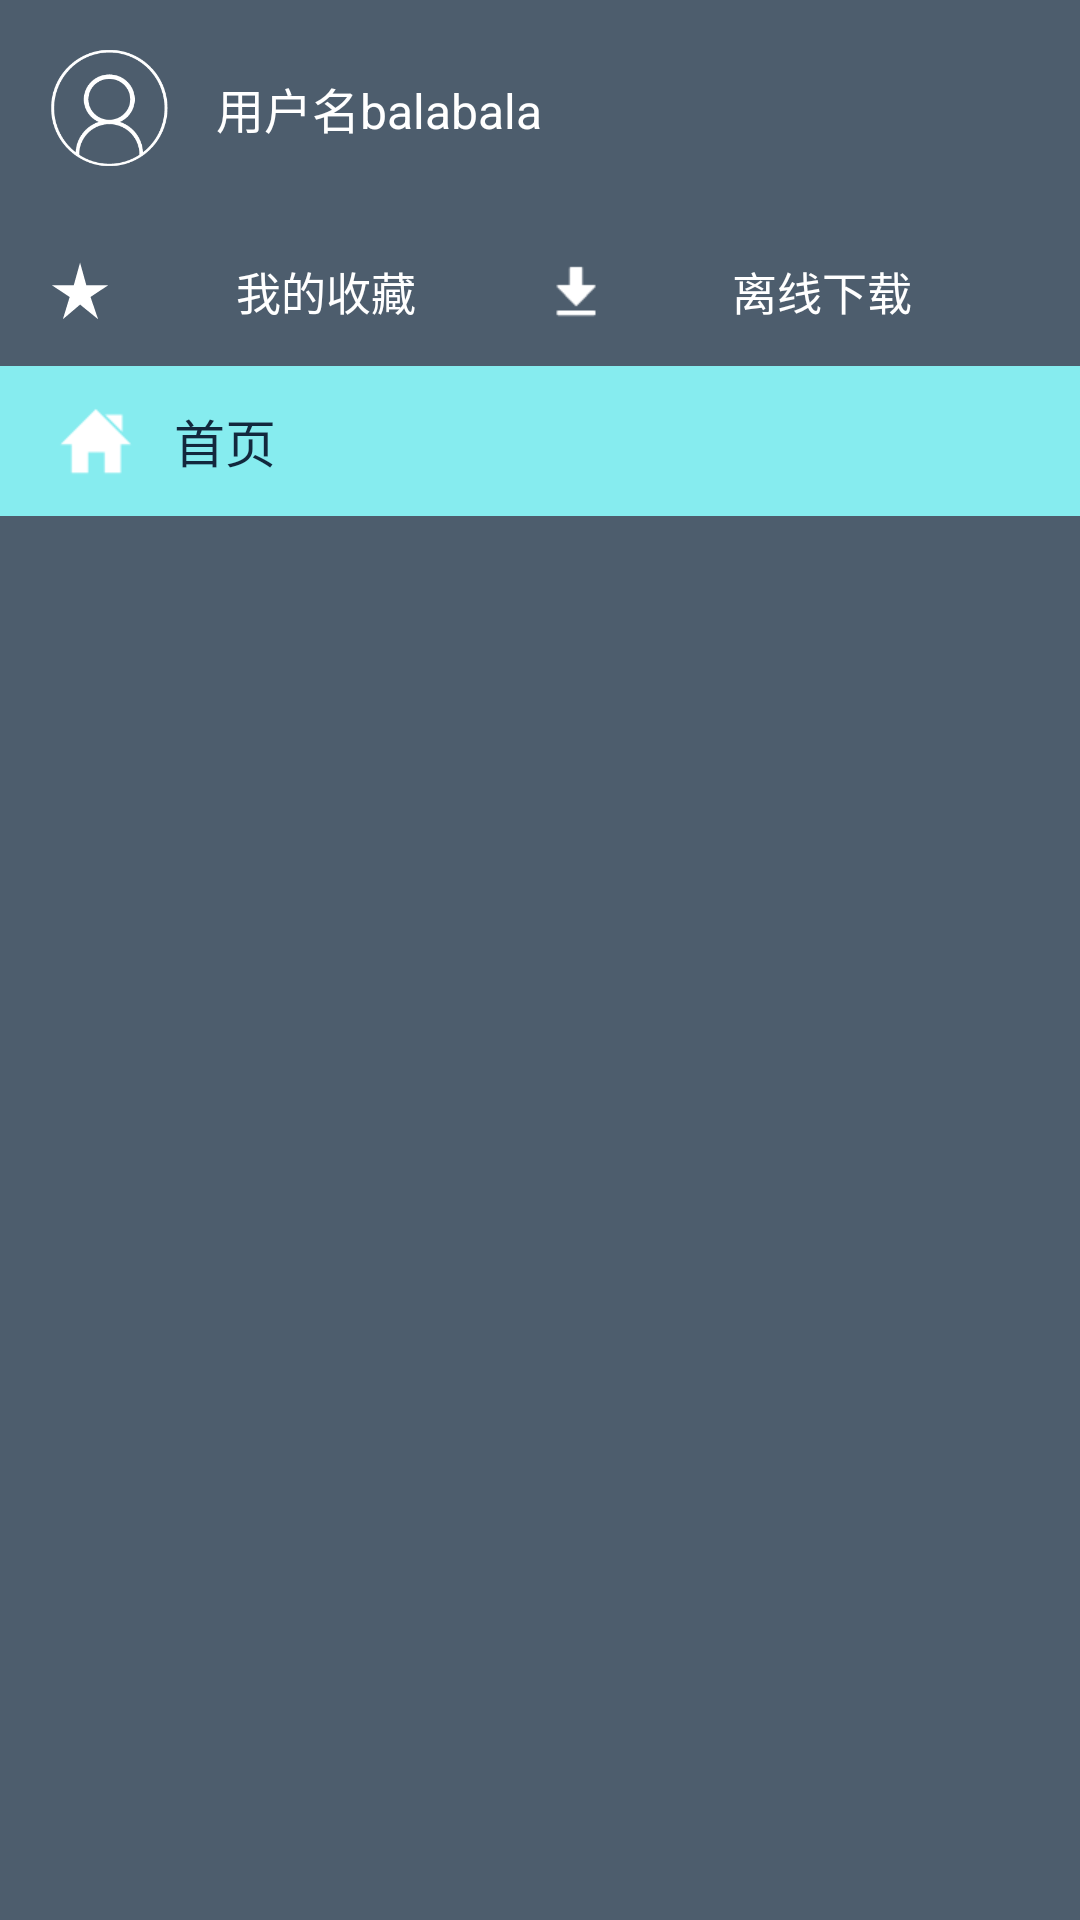

Icon click points for this 1080×1920 phone screenshot, format point (x, y):
head: point (109, 108)
